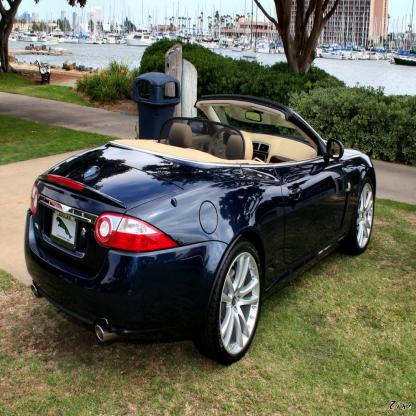Car: (24, 94, 376, 366)
